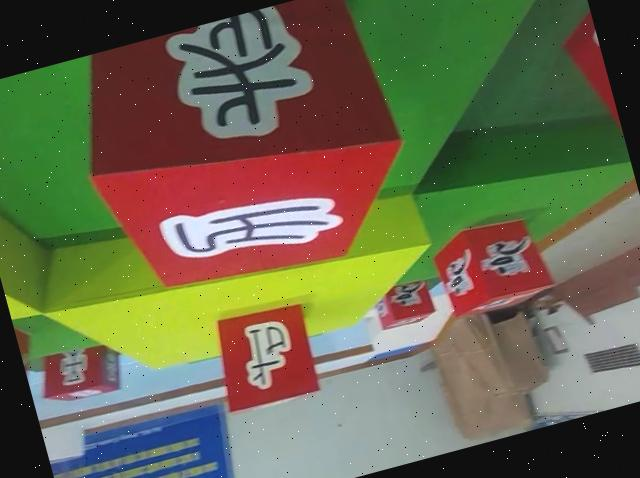R1: (425, 209, 557, 322), (368, 274, 440, 334)
R2 Fake: (58, 0, 430, 317)
R2 Real: (205, 294, 325, 418), (31, 333, 127, 409)
